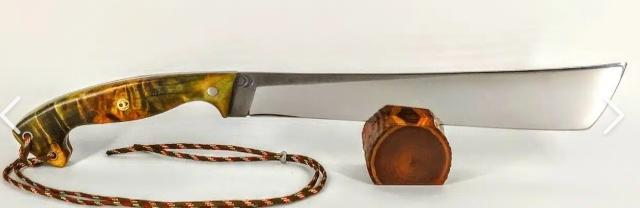MACHETTE: (0, 55, 627, 208)
